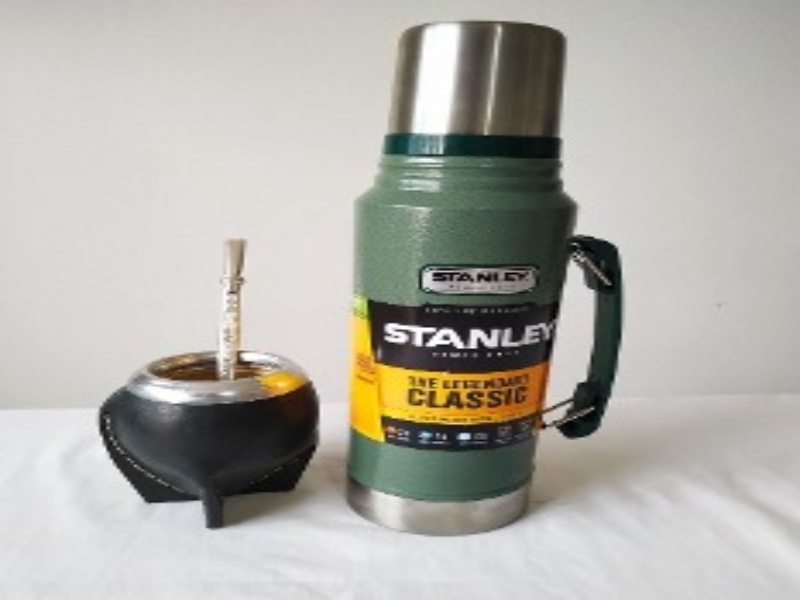guampa: (110, 226, 320, 536)
